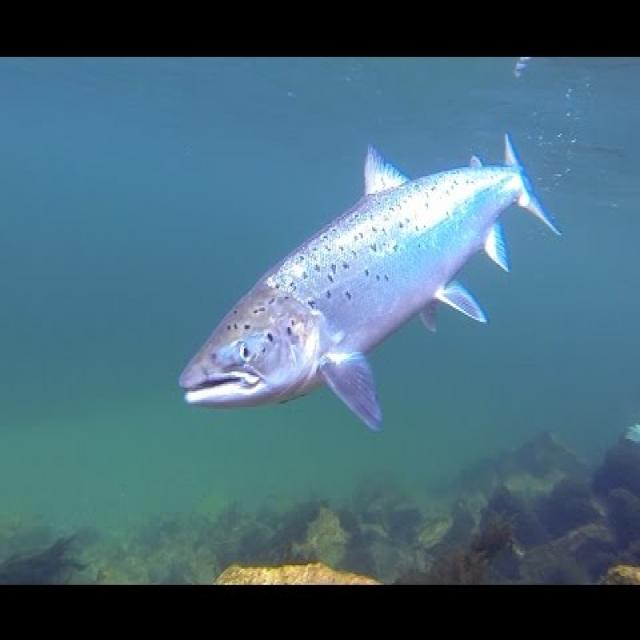salmon: (166, 120, 570, 456)
